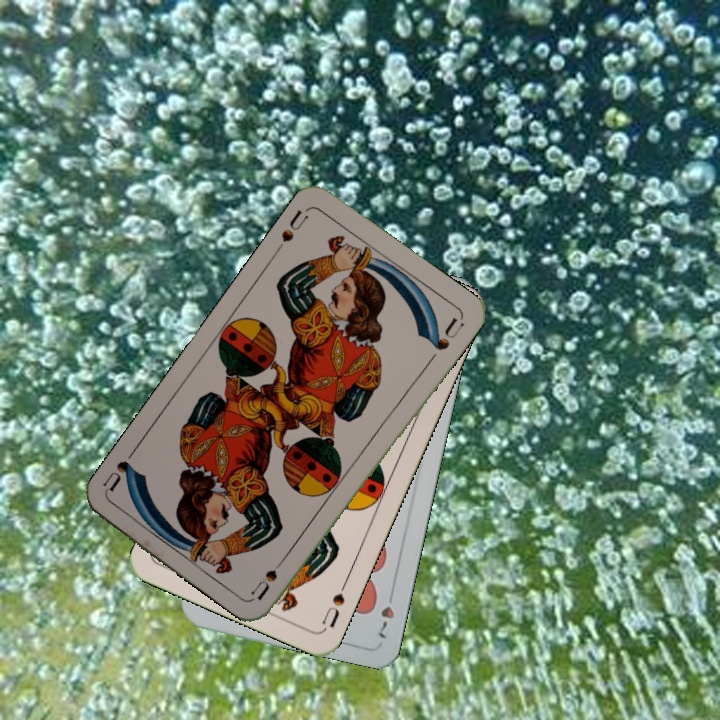H7: (374, 585, 398, 642)
SU: (248, 548, 292, 602), (317, 576, 350, 632), (277, 204, 311, 245)
